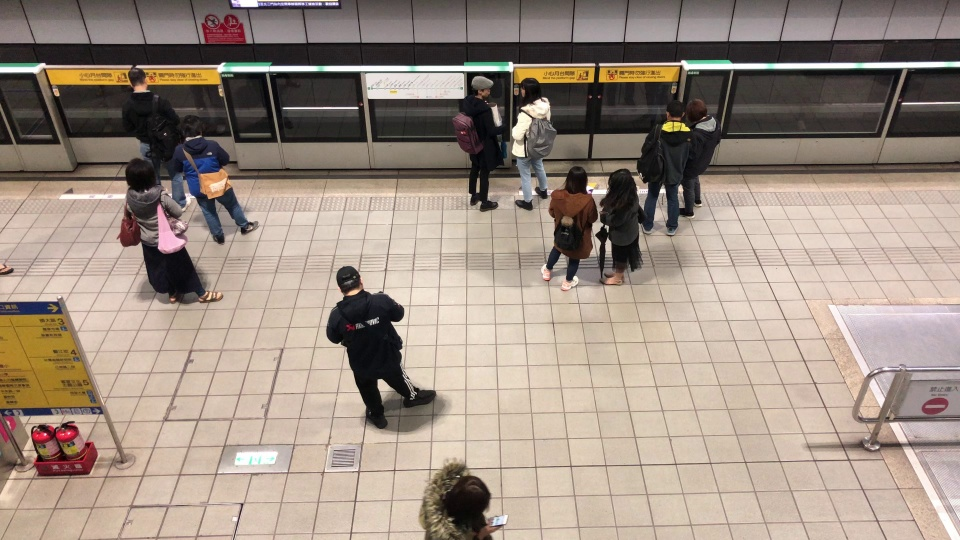person_head: (446, 474, 492, 516), (125, 155, 156, 192), (336, 265, 366, 296), (607, 168, 634, 197), (564, 163, 588, 193), (684, 96, 708, 122), (470, 75, 494, 100), (127, 67, 149, 93), (180, 113, 203, 137), (519, 76, 539, 102), (663, 100, 685, 122)
person_vbox: (322, 265, 436, 428), (117, 158, 224, 307), (171, 115, 261, 245), (121, 66, 191, 215), (636, 99, 698, 236), (451, 74, 508, 212), (417, 456, 509, 540), (539, 164, 597, 291), (594, 169, 647, 287), (511, 76, 556, 211), (677, 97, 722, 219)
